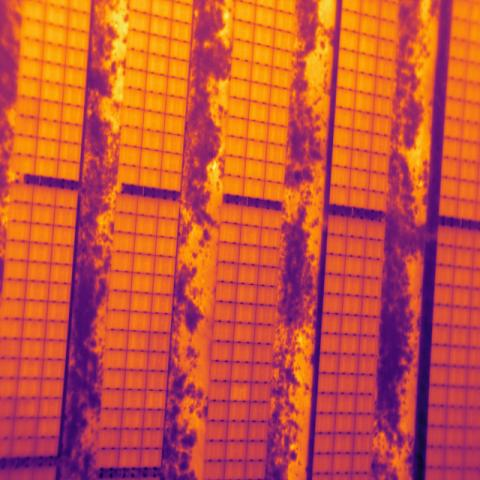fault: (230, 381, 251, 403)
